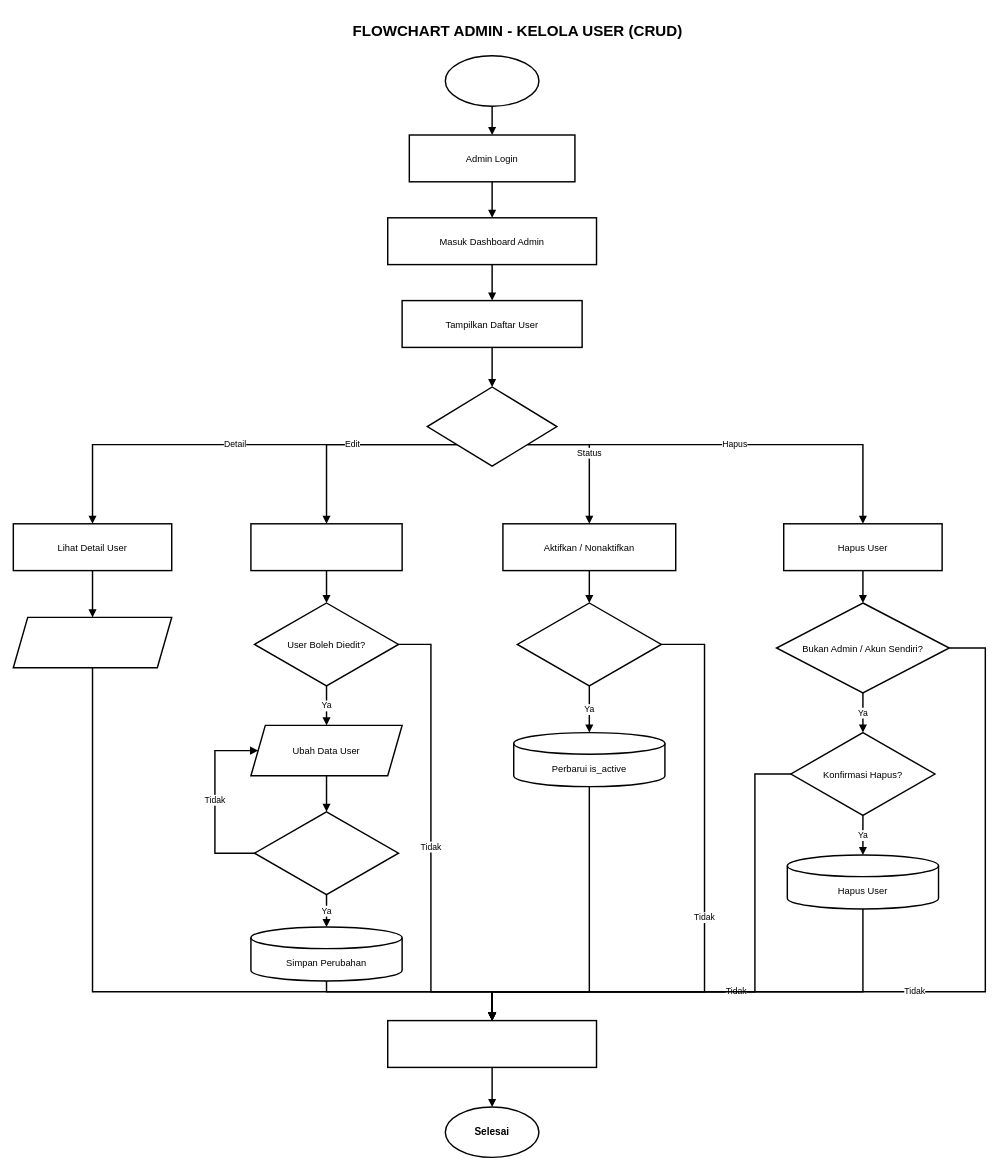
The diagram is 1004 pixels wide and 1170 high, and some of its shapes have lost their labels. Each missing label, with the centre of its shape:
"Boleh Ubah Status?" goes at (x=589, y=644).
"Data Valid?" goes at (x=326, y=853).
"Edit User" goes at (x=326, y=547).
"Kembali ke Daftar User" goes at (x=492, y=1044).
"Mulai" goes at (x=491, y=81).
"Pilih Aksi" goes at (x=491, y=426).
"Tampilkan Data User" goes at (x=92, y=642).
